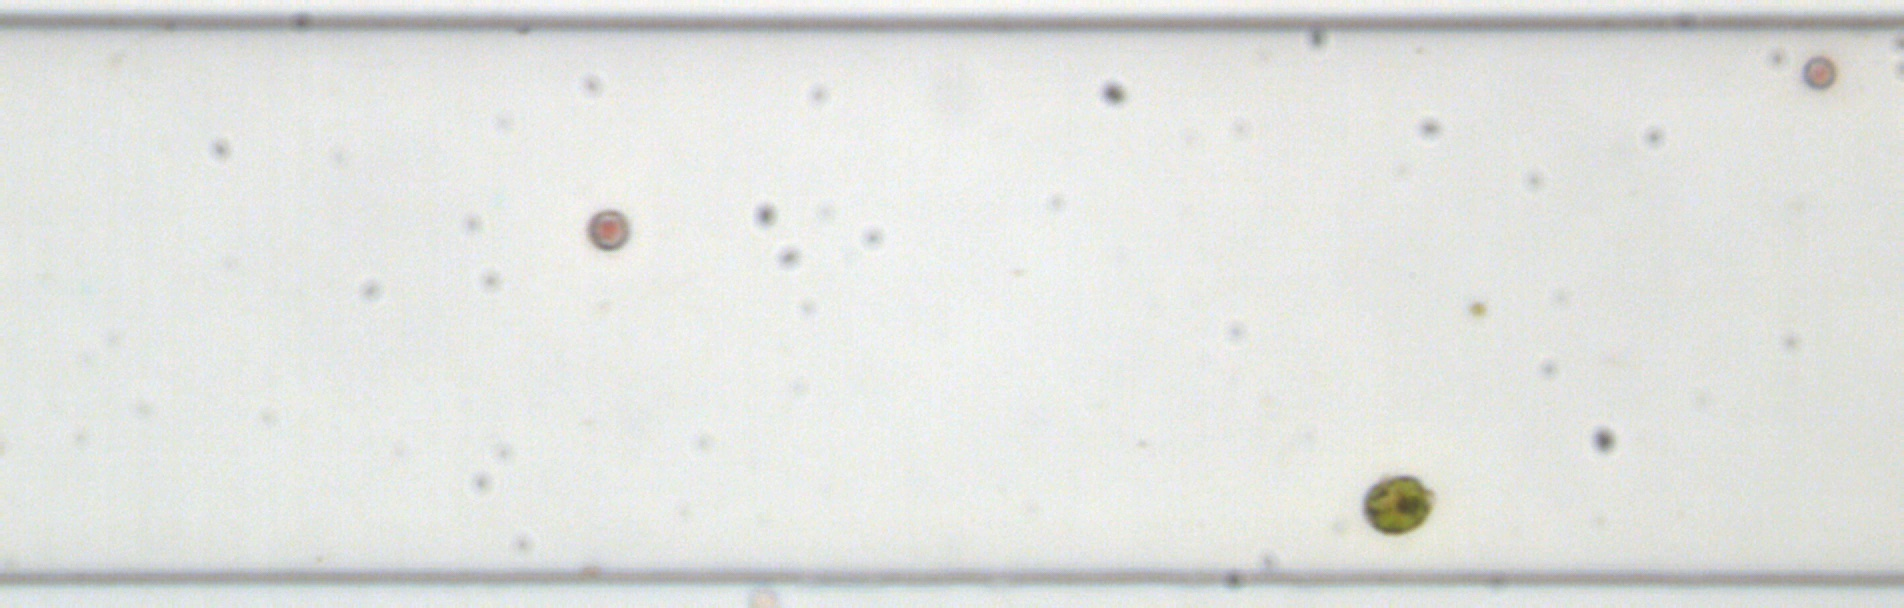Chlorella: (1469, 299, 1487, 316)
Haematococcus: (1361, 471, 1432, 536)
Porphyridium: (582, 208, 631, 252), (1798, 53, 1837, 92)
